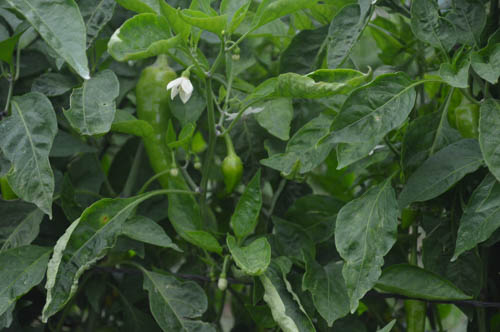ChiliPepper: (137, 67, 177, 189)
